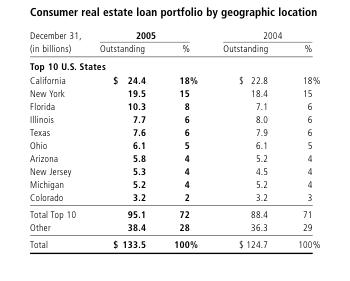table: (29, 29, 319, 249)
table column: (209, 29, 282, 249), (89, 29, 159, 249), (29, 29, 89, 249), (159, 29, 209, 249), (282, 29, 319, 249)
table column header: (29, 29, 319, 57)
table projected row header: (29, 57, 319, 72)
table row: (29, 41, 319, 57), (29, 57, 319, 72), (29, 190, 319, 205), (29, 205, 319, 220), (29, 220, 319, 235), (29, 111, 319, 125), (29, 235, 319, 249), (29, 72, 319, 85), (29, 85, 319, 98), (29, 98, 319, 111), (29, 125, 319, 138), (29, 138, 319, 151), (29, 151, 319, 164), (29, 164, 319, 177), (29, 177, 319, 190), (29, 29, 319, 41)
table spanning cell: (29, 29, 89, 57), (89, 29, 209, 41), (209, 29, 319, 41)
